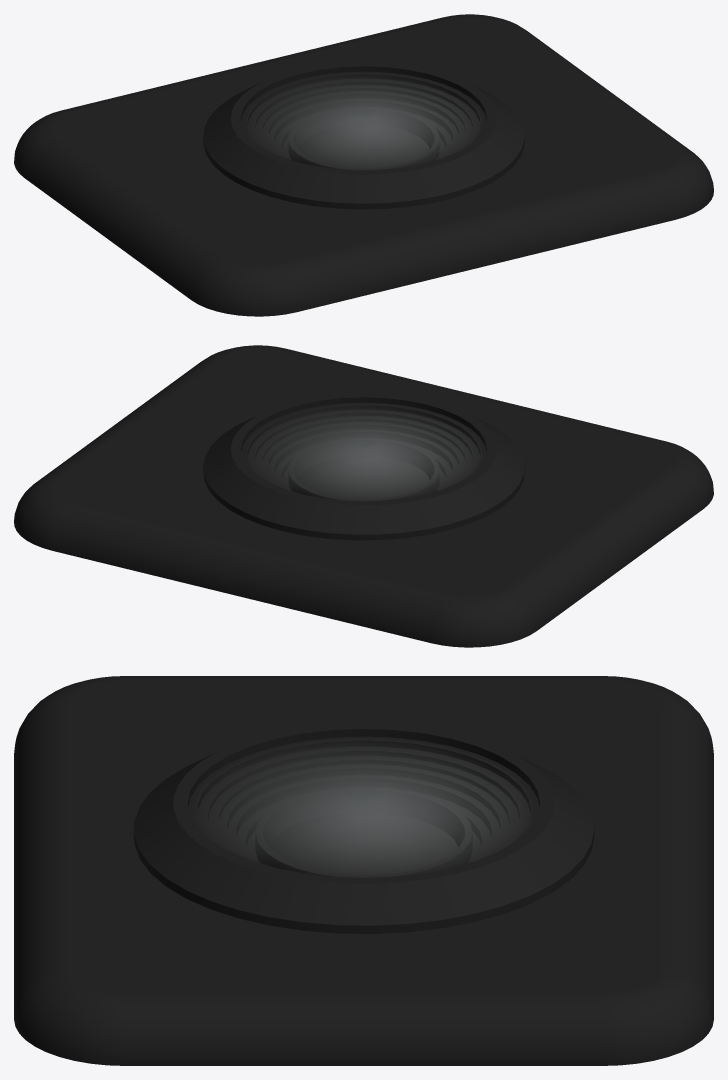
Rendered from Camera-large.glb.
The picture shows the model from 3 angles, top to bottom: view 1: azimuth 30°, elevation 25°; view 2: azimuth 150°, elevation 25°; view 3: azimuth 270°, elevation 25°; orthographic projection. The views are drawn at different scales.
Visible parts, largest first — view 1: dark grey low gloss plastic, clear thick glass_clonedChild, clear thick glass; view 2: dark grey low gloss plastic, clear thick glass_clonedChild, clear thick glass; view 3: dark grey low gloss plastic, clear thick glass_clonedChild, clear thick glass.
Part boxes in pixels (box(x1,y1,x2,y2)): dark grey low gloss plastic: box(14, 14, 713, 316); clear thick glass_clonedChild: box(270, 81, 457, 159); clear thick glass: box(276, 89, 449, 160); dark grey low gloss plastic: box(14, 345, 713, 647); clear thick glass_clonedChild: box(271, 412, 457, 490); clear thick glass: box(277, 421, 450, 491); dark grey low gloss plastic: box(14, 676, 713, 1065); clear thick glass_clonedChild: box(229, 749, 497, 862); clear thick glass: box(241, 761, 488, 863).
Bounding box in the file's own units: 0.046 × 0.00555 × 0.038.
2 materials, 1 textured.
